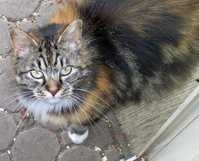Cat: (3, 8, 159, 143)
